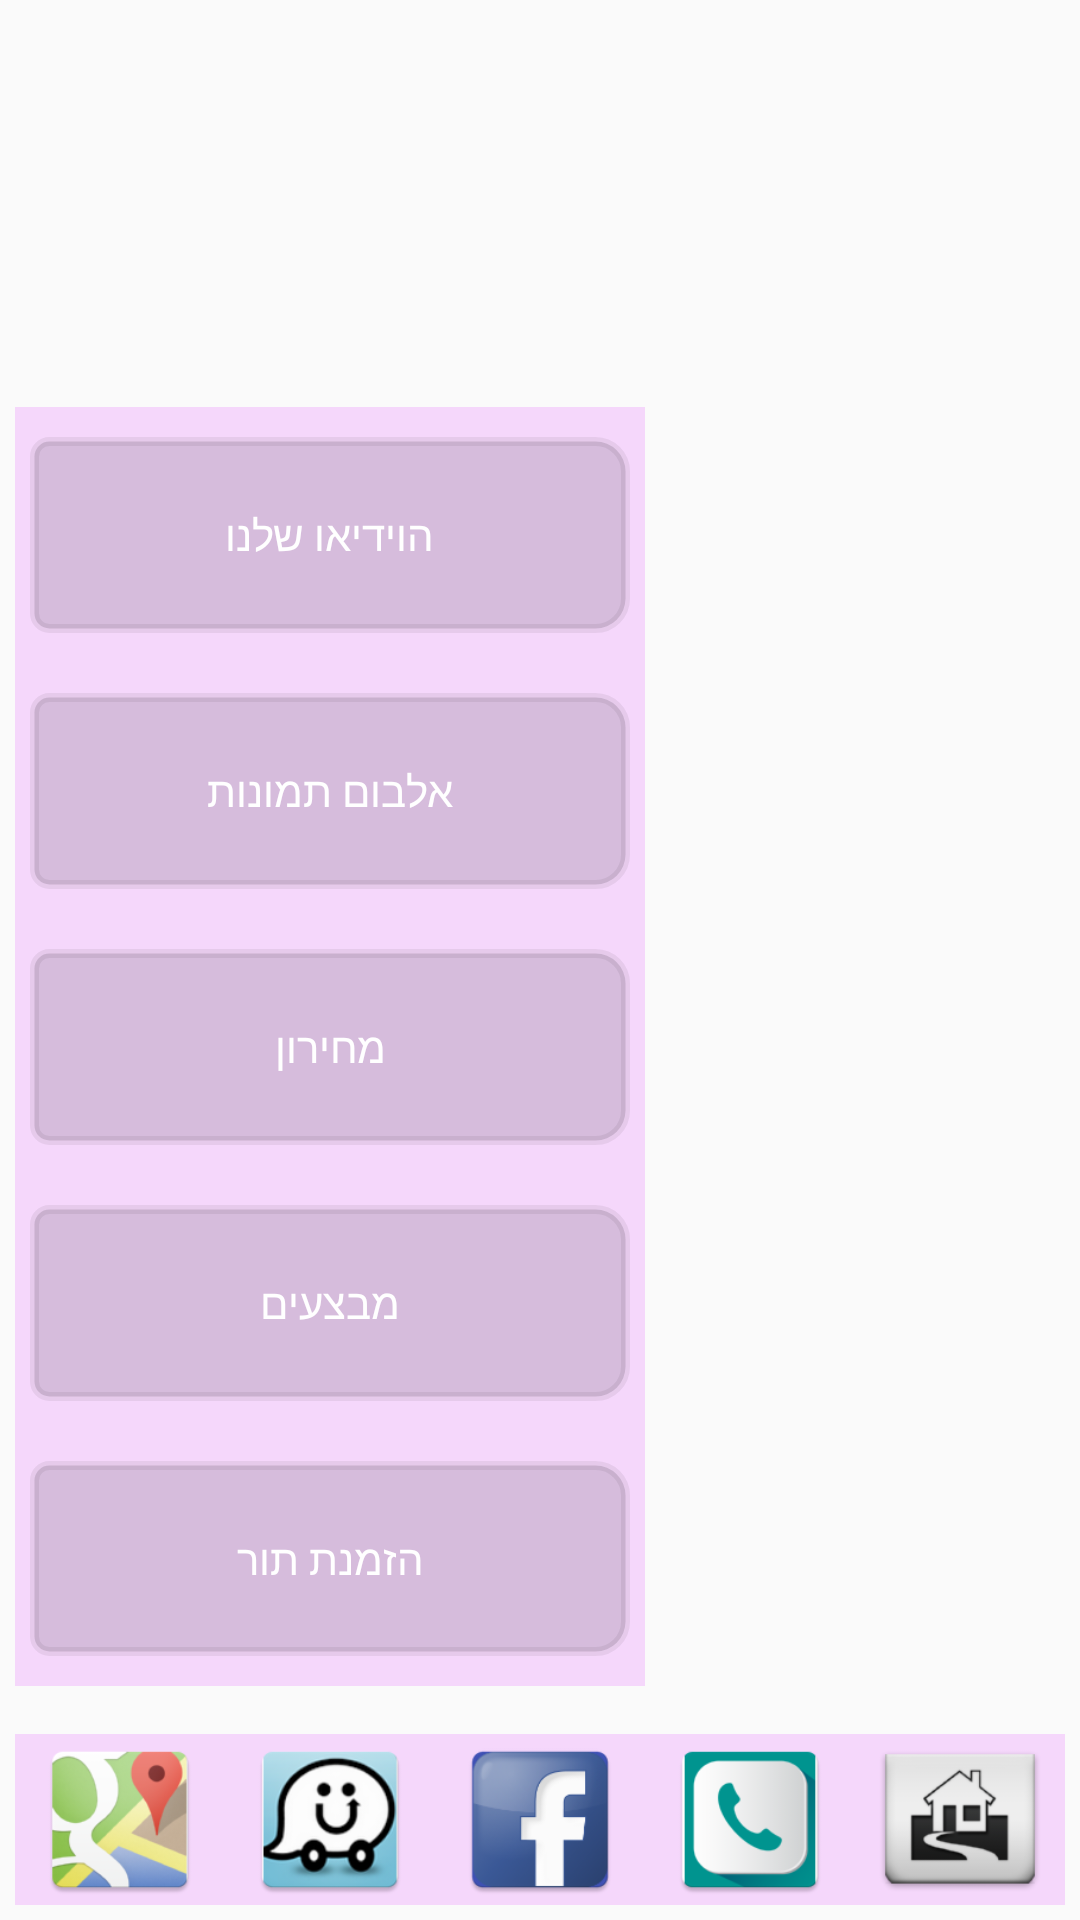

Screen size 1080x1920. Icon name, then its center in pixels as (x=x, y=y):
home: (x=960, y=1819)
phone: (x=750, y=1821)
